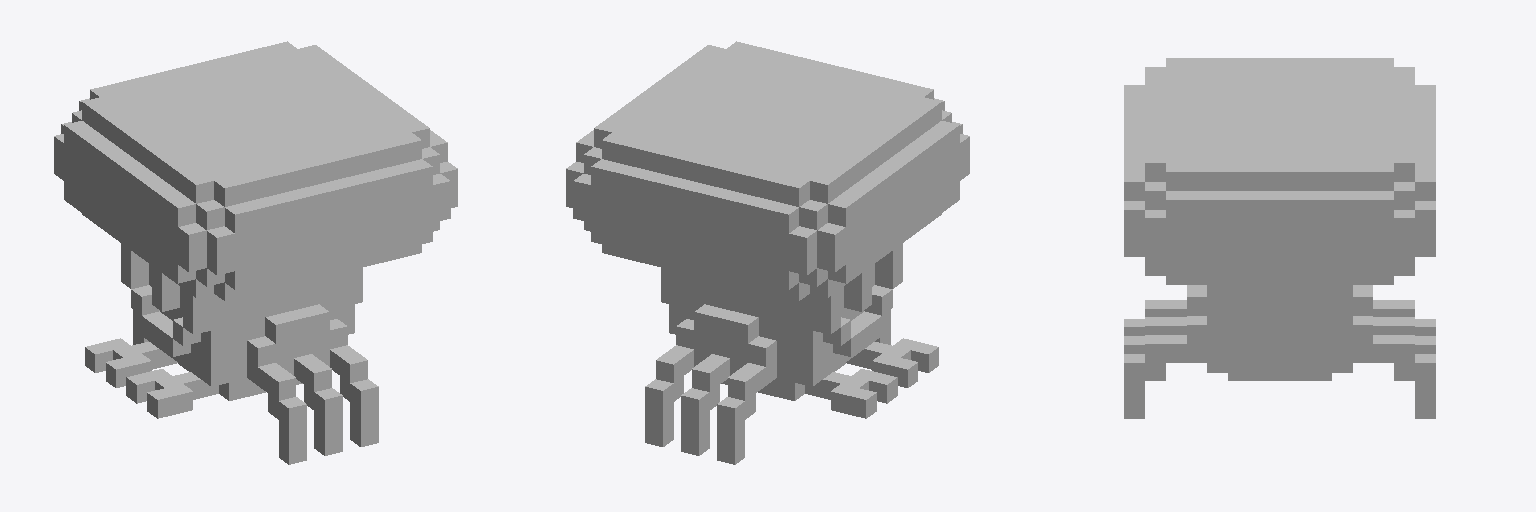
File: Crab Enemy.obj
3 views of the same model, side by side, from view 1: azimuth 30°, elevation 25°; view 2: azimuth 150°, elevation 25°; view 3: azimuth 270°, elevation 25° (orthographic).
Size of the model in its own units: 15 by 15 by 15.